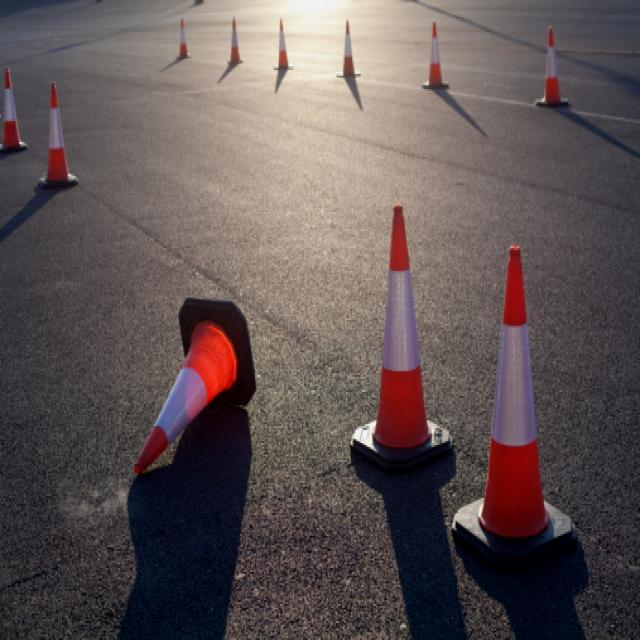traffic cone: (451, 244, 578, 567), (349, 203, 455, 473), (133, 298, 257, 477), (36, 80, 79, 190), (535, 26, 570, 108), (0, 66, 29, 153), (422, 21, 450, 90), (335, 19, 361, 79), (273, 18, 295, 71), (226, 17, 244, 66), (175, 17, 192, 60)
